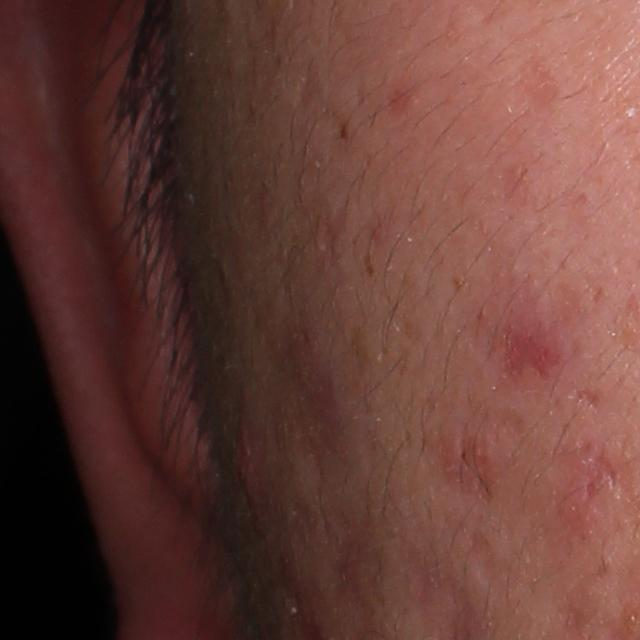atrophic_scar: (464, 524, 511, 591), (569, 443, 625, 491), (567, 386, 604, 410)
comedo: (613, 102, 638, 127)
